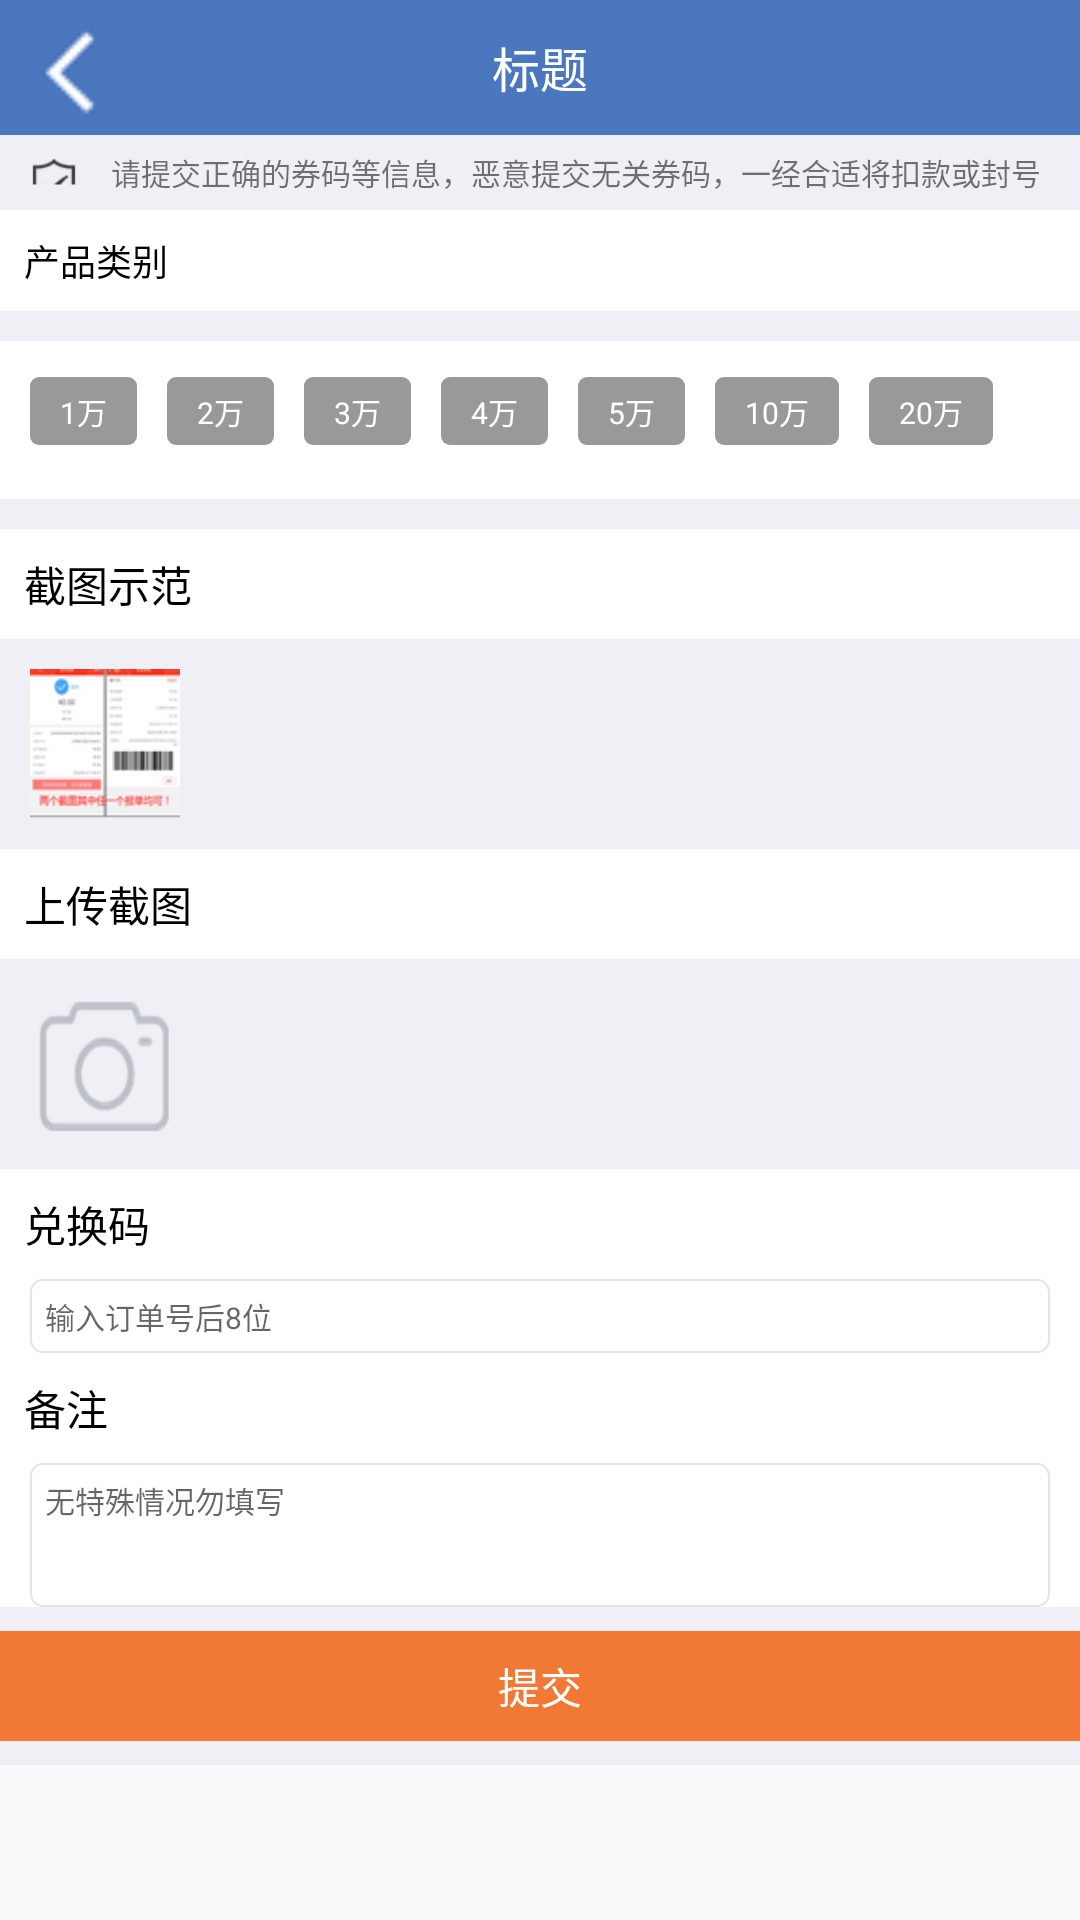

Screen size 1080px x 1920px. Icon name, then its center in pixels as point (x, y):
back: point (69, 73)
pick: point (104, 1066)
thumb: point (105, 743)
